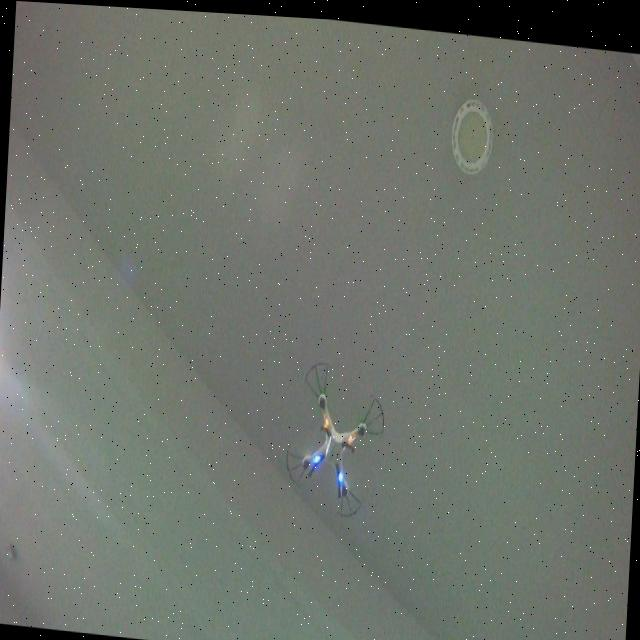drone: (280, 351, 391, 521)
